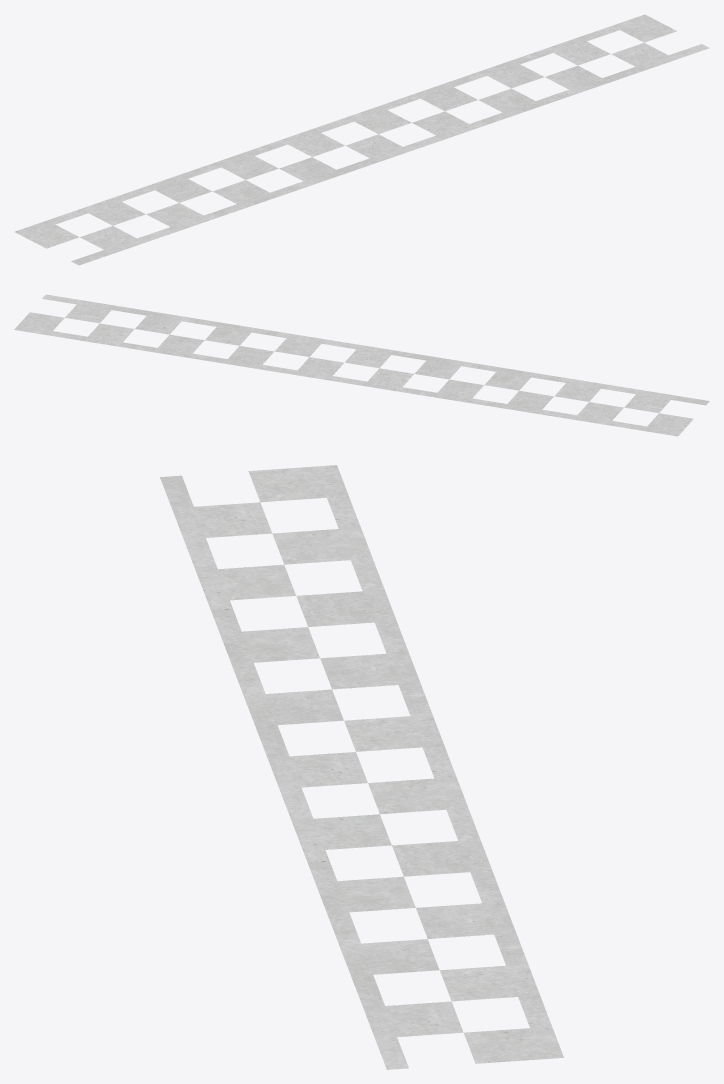
The model's file is Singapore_track_road_finishline.dae.
3 views of the same model, one above another, from view 1: azimuth 30°, elevation 25°; view 2: azimuth 150°, elevation 25°; view 3: azimuth 270°, elevation 25° (orthographic). The views are drawn at different scales.
Parts seen in each view (by area): view 1: finishline; view 2: finishline; view 3: finishline.
Part boxes in pixels (bbox=[...]): finishline: bbox=[14, 14, 709, 265]; finishline: bbox=[14, 294, 709, 436]; finishline: bbox=[160, 465, 563, 1069].
Bounding box in the file's own units: 1.47 × 0.414 × 1.16e-09.
Materials: 1 (1 with a texture image).
